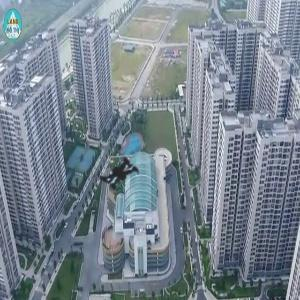drone: (70, 124, 167, 221)
